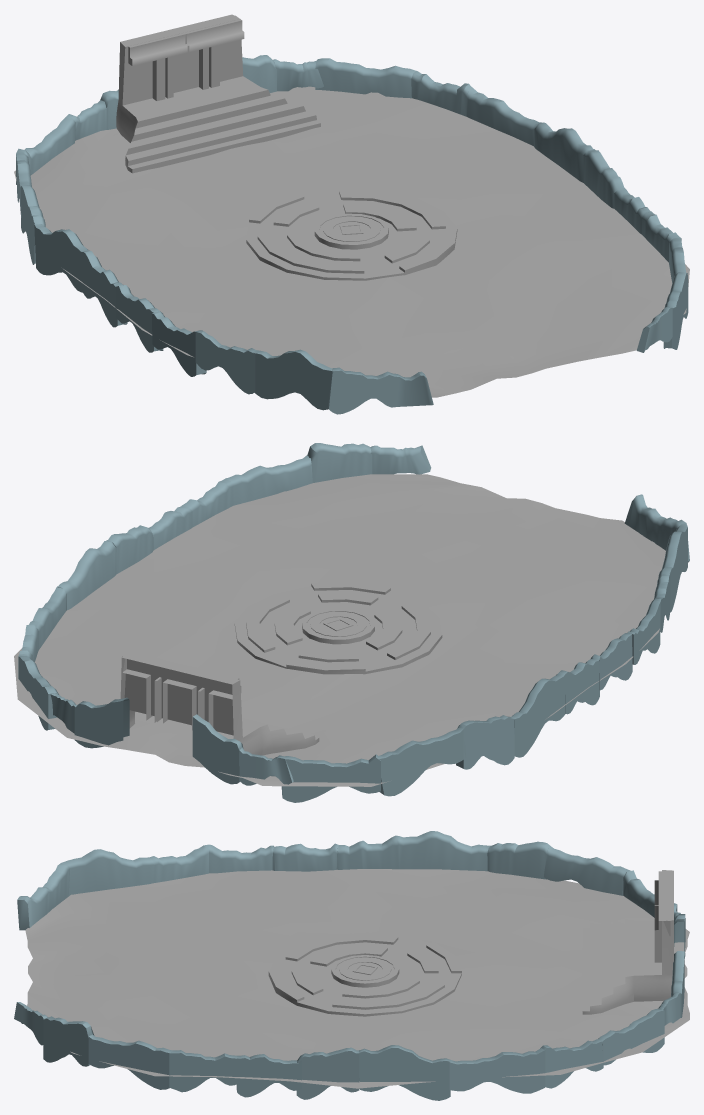
File: MindiPiliceAshi.fbx
The picture shows the model from 3 angles, top to bottom: view 1: azimuth 30°, elevation 25°; view 2: azimuth 150°, elevation 25°; view 3: azimuth 270°, elevation 25°; orthographic projection. The views are drawn at different scales.
Visible parts, largest first — view 1: pPlane2, polySurface152, polySurface154, polySurface138, polySurface139, polySurface149, polySurface133, polySurface137, polySurface147, polySurface145, polySurface136, polySurface134 (+12 smaller); view 2: pPlane2, polySurface154, polySurface152, polySurface131, polySurface130, polySurface133, polySurface142, polySurface132, polySurface151, polySurface128, polySurface141, polySurface145 (+14 smaller); view 3: pPlane2, polySurface154, polySurface152, polySurface145, polySurface147, polySurface138, polySurface133, polySurface142, polySurface131, polySurface144, polySurface143, polySurface146 (+13 smaller).
Part boxes in pixels (left/top/right/bottom): pPlane2: left=14, top=86, right=689, bottom=397; polySurface152: left=116, top=14, right=320, bottom=173; polySurface154: left=246, top=189, right=457, bottom=280; polySurface138: left=253, top=349, right=333, bottom=410; polySurface139: left=327, top=367, right=433, bottom=414; polySurface149: left=315, top=58, right=416, bottom=98; polySurface133: left=34, top=224, right=89, bottom=292; polySurface137: left=195, top=331, right=256, bottom=394; polySurface147: left=466, top=86, right=541, bottom=146; polySurface145: left=534, top=122, right=593, bottom=182; polySurface136: left=152, top=311, right=206, bottom=376; polySurface134: left=83, top=250, right=127, bottom=327; pPlane2: left=14, top=474, right=665, bottom=786; polySurface154: left=234, top=582, right=442, bottom=674; polySurface152: left=120, top=651, right=319, bottom=755; polySurface131: left=378, top=727, right=466, bottom=796; polySurface130: left=281, top=754, right=380, bottom=802; polySurface133: left=511, top=672, right=565, bottom=757; polySurface142: left=226, top=455, right=312, bottom=505; polySurface132: left=456, top=715, right=514, bottom=769; polySurface151: left=74, top=697, right=129, bottom=748; polySurface128: left=192, top=714, right=243, bottom=784; polySurface141: left=307, top=443, right=372, bottom=482; polySurface145: left=58, top=541, right=116, bottom=610; pPlane2: left=25, top=869, right=689, bottom=1088; polySurface154: left=268, top=932, right=461, bottom=1016; polySurface152: left=582, top=870, right=673, bottom=1014; polySurface145: left=359, top=1045, right=450, bottom=1100; polySurface147: left=449, top=1048, right=545, bottom=1093; polySurface138: left=61, top=849, right=153, bottom=896; polySurface133: left=398, top=831, right=490, bottom=871; polySurface142: left=88, top=1034, right=172, bottom=1089; polySurface131: left=544, top=845, right=630, bottom=895; polySurface144: left=296, top=1047, right=359, bottom=1099; polySurface143: left=169, top=1050, right=237, bottom=1092; polySurface146: left=236, top=1054, right=301, bottom=1097.
Size of the model in its own units: 37.74 by 7.69 by 48.32.
